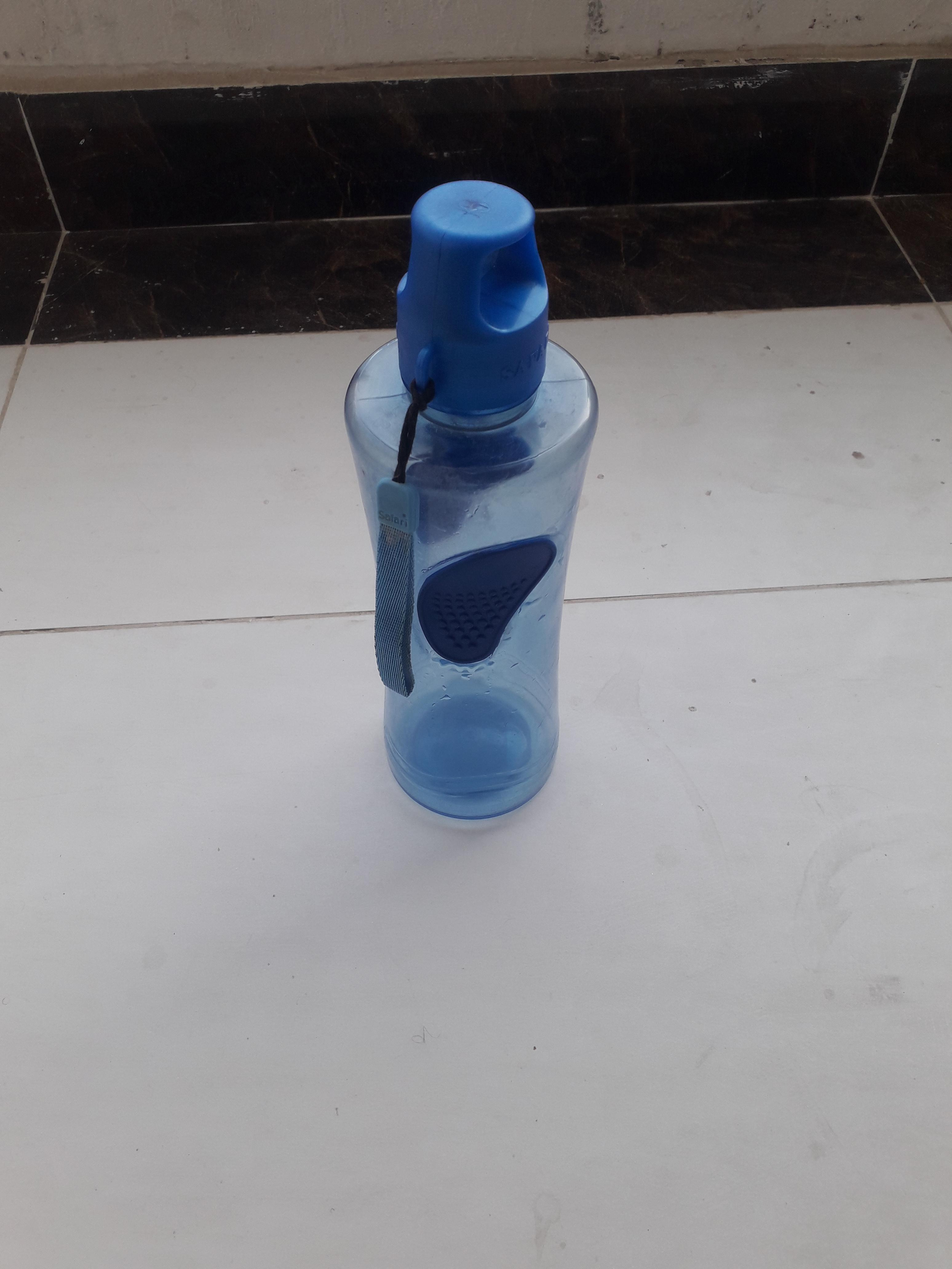gym bottle: (339, 167, 599, 834)
